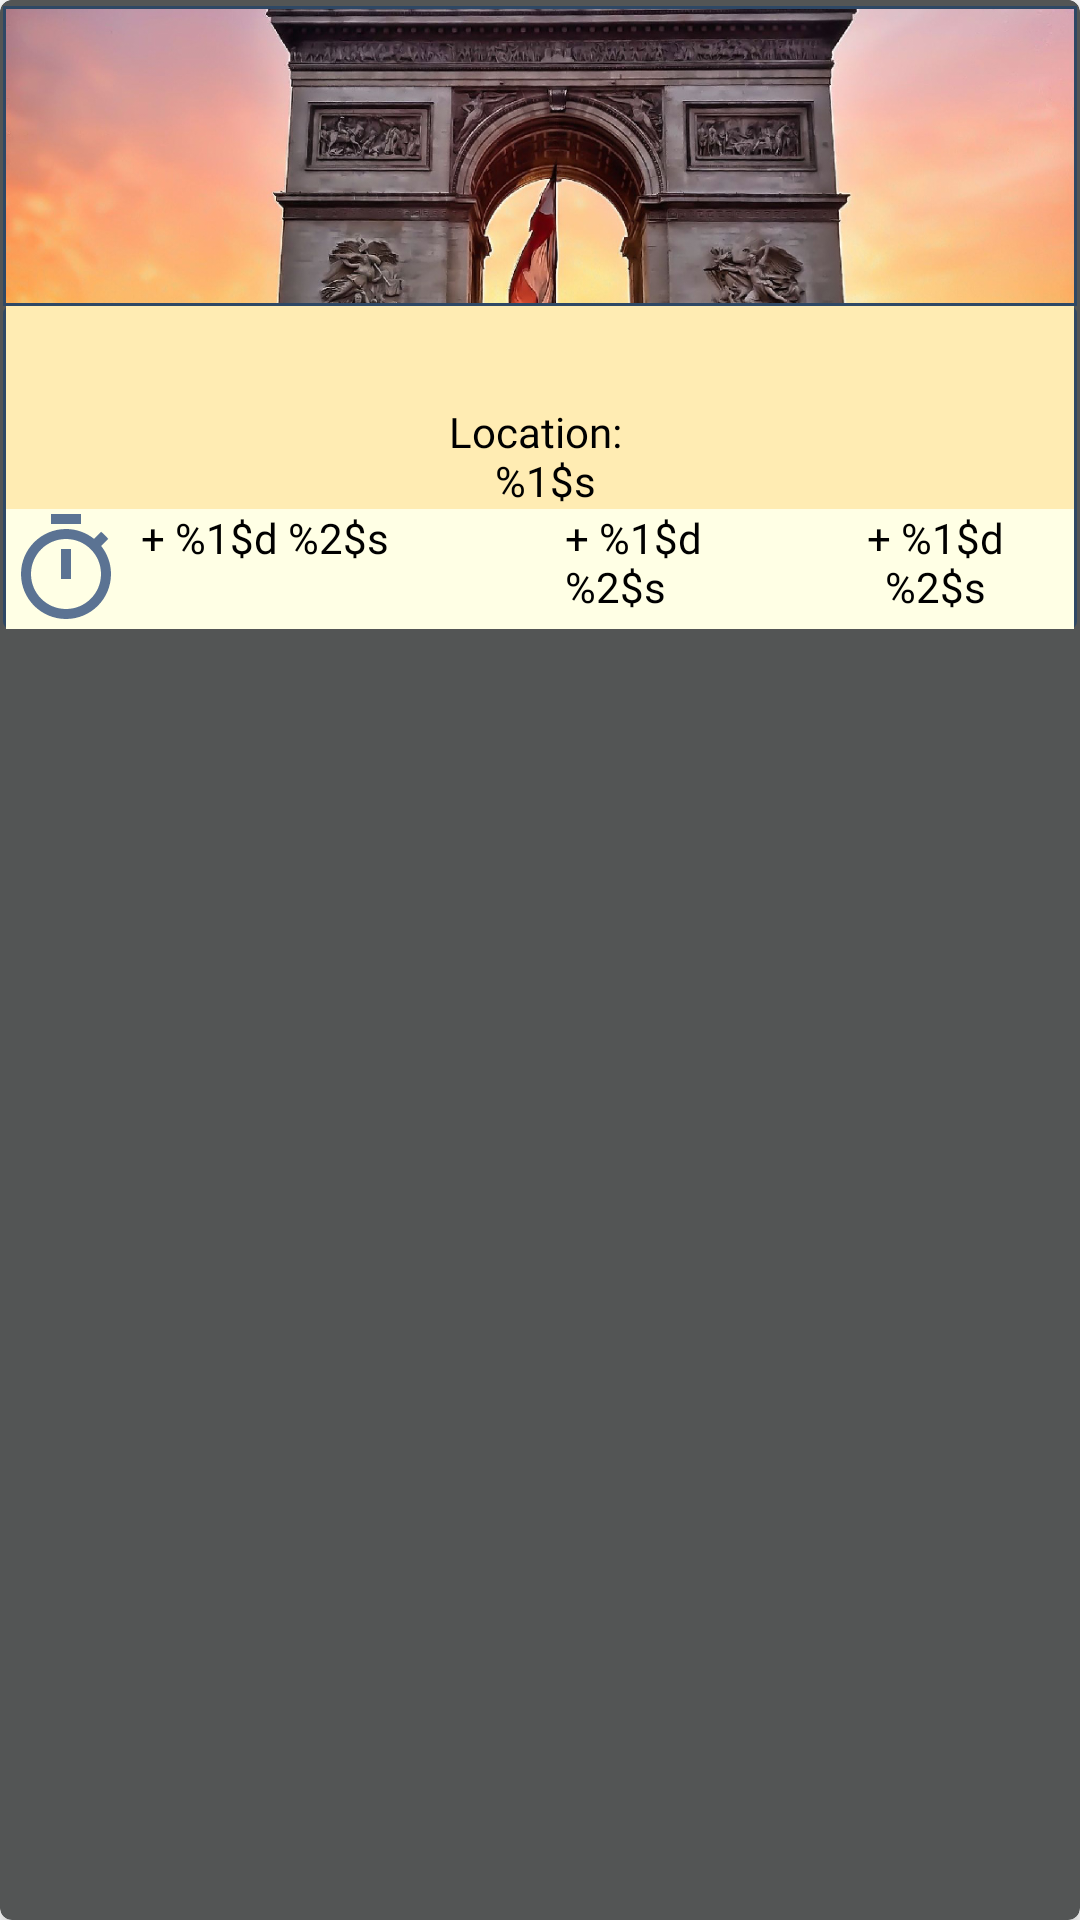

Named icons in this screenshot (1080*1920) and their centers, (x=x, y=y):
timer: (x=66, y=569)
